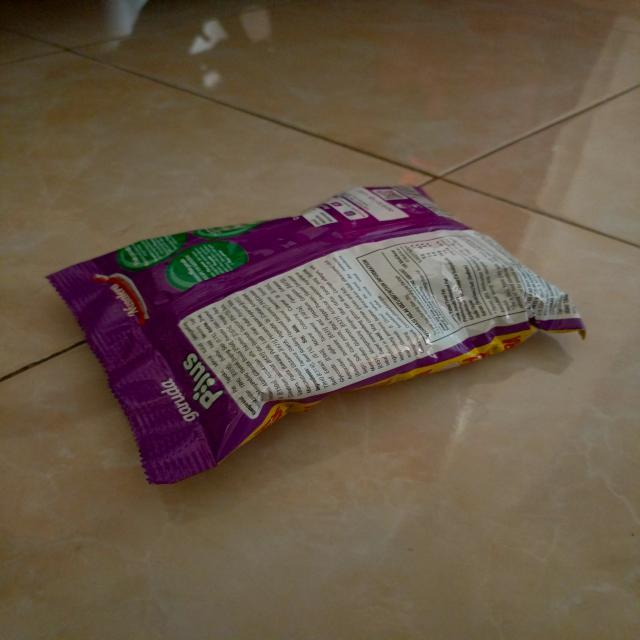pilus-rendang: (48, 186, 591, 488)
